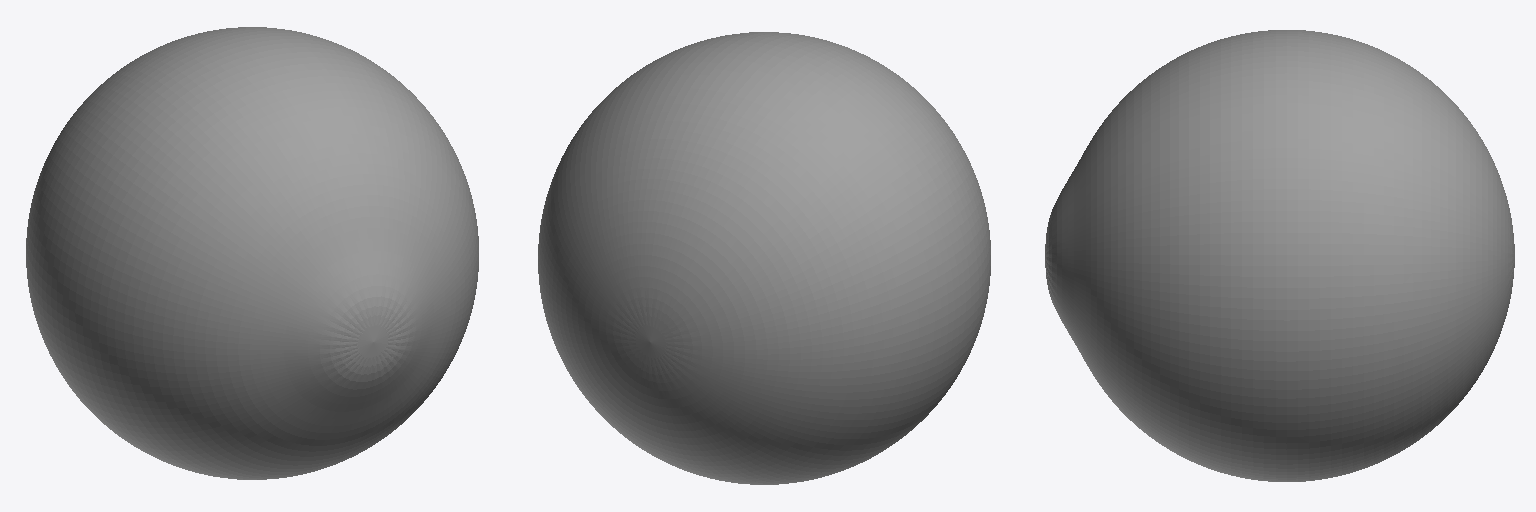
File: eye.obj
The picture shows the model from 3 angles: view 1: azimuth 30°, elevation 25°; view 2: azimuth 150°, elevation 25°; view 3: azimuth 270°, elevation 25°; orthographic projection.
Visible parts, largest first — view 1: Sphere_Sphere.002; view 2: Sphere_Sphere.002; view 3: Sphere_Sphere.002.
Part boxes in pixels (x1,y1,x2,y2): Sphere_Sphere.002: (26,27,478,479); Sphere_Sphere.002: (538,32,990,484); Sphere_Sphere.002: (1045,30,1514,481).
Size of the model in its own units: 2.09 by 2.09 by 2.18.